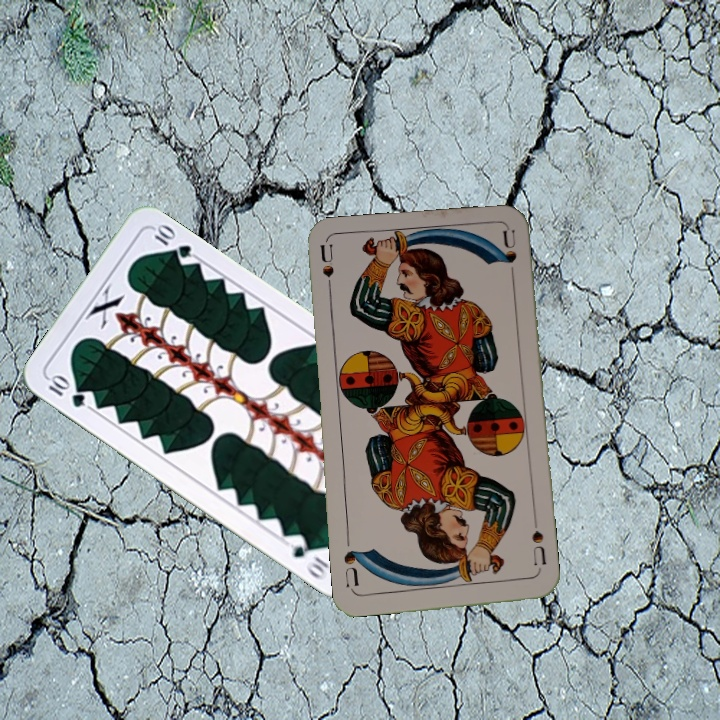G10: (44, 371, 88, 411)
SU: (316, 242, 337, 302), (528, 516, 548, 575)
